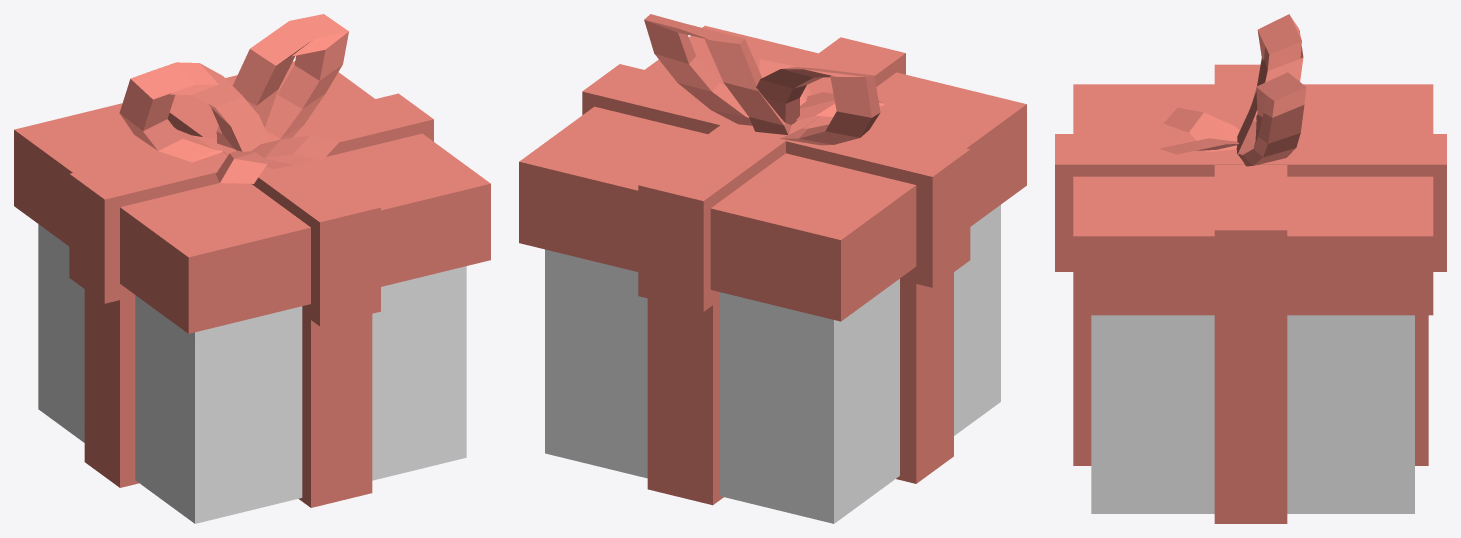
The model's file is Gift_Square.glb.
3 renders of one model, left to right at view 1: azimuth 30°, elevation 25°; view 2: azimuth 150°, elevation 25°; view 3: azimuth 270°, elevation 25°, orthographic. The views are drawn at different scales.
Visible parts, largest first — view 1: gift4; view 2: gift4; view 3: gift4.
Part boxes in pixels (x1=…): gift4: x1=14, y1=14, x2=490, y2=523; gift4: x1=519, y1=14, x2=1026, y2=523; gift4: x1=1055, y1=14, x2=1446, y2=523.
Size of the model in its own units: 0.86 by 0.9546 by 0.86.
